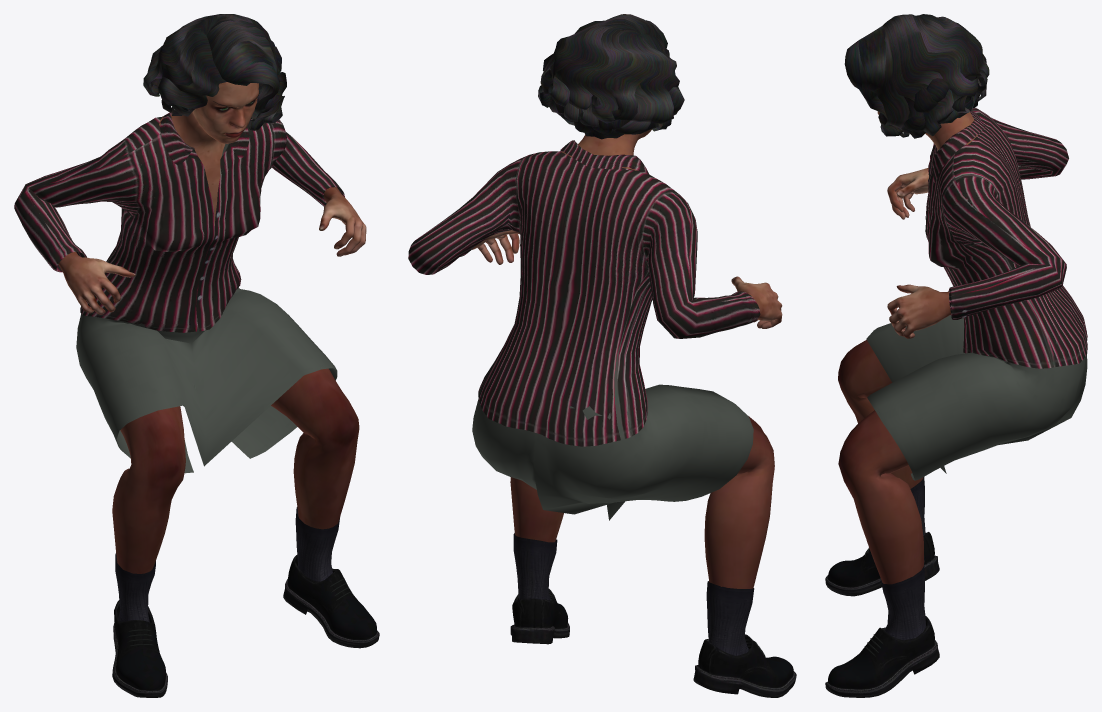
Rendered from donna-03.glb.
3 renders of one model, left to right at view 1: azimuth 30°, elevation 25°; view 2: azimuth 150°, elevation 25°; view 3: azimuth 270°, elevation 25°, orthographic. The views are drawn at different scales.
Visible parts, largest first — view 1: Human.female_elegantsuit01, Human, Human.shoes03, Human.elvs_wavy_bob; view 2: Human.female_elegantsuit01, Human.elvs_wavy_bob, Human, Human.shoes03; view 3: Human.female_elegantsuit01, Human, Human.elvs_wavy_bob, Human.shoes03.
Boxes of the visible parts, left/top/right/bottom form: Human.female_elegantsuit01: left=14, top=110, right=344, bottom=473; Human: left=58, top=82, right=366, bottom=573; Human.shoes03: left=112, top=507, right=379, bottom=697; Human.elvs_wavy_bob: left=143, top=14, right=286, bottom=130; Human.female_elegantsuit01: left=408, top=140, right=760, bottom=520; Human.elvs_wavy_bob: left=538, top=14, right=684, bottom=139; Human: left=472, top=129, right=782, bottom=588; Human.shoes03: left=510, top=533, right=796, bottom=697; Human.female_elegantsuit01: left=866, top=107, right=1087, bottom=480; Human: left=838, top=111, right=977, bottom=584; Human.elvs_wavy_bob: left=844, top=14, right=989, bottom=138; Human.shoes03: left=825, top=477, right=939, bottom=697.
Bounding box in the file's own units: 0.6571 × 1.34 × 0.5119.
Materials: 12 (12 with a texture image).
